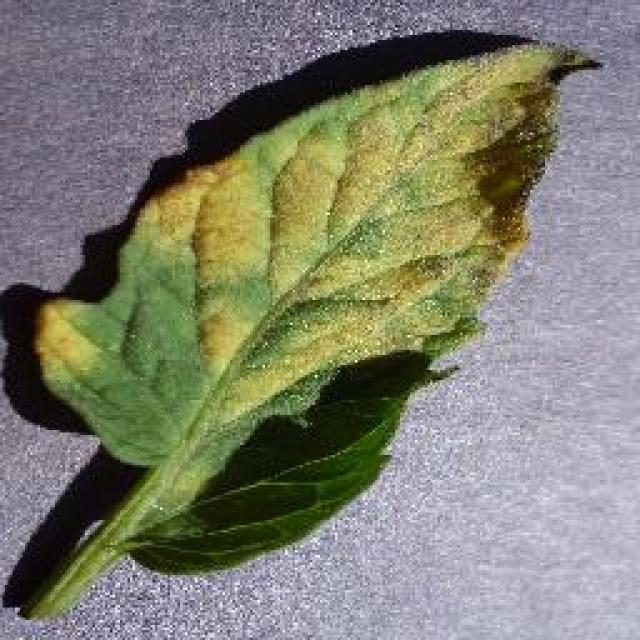Tomato mold leaf: (33, 41, 600, 578)
